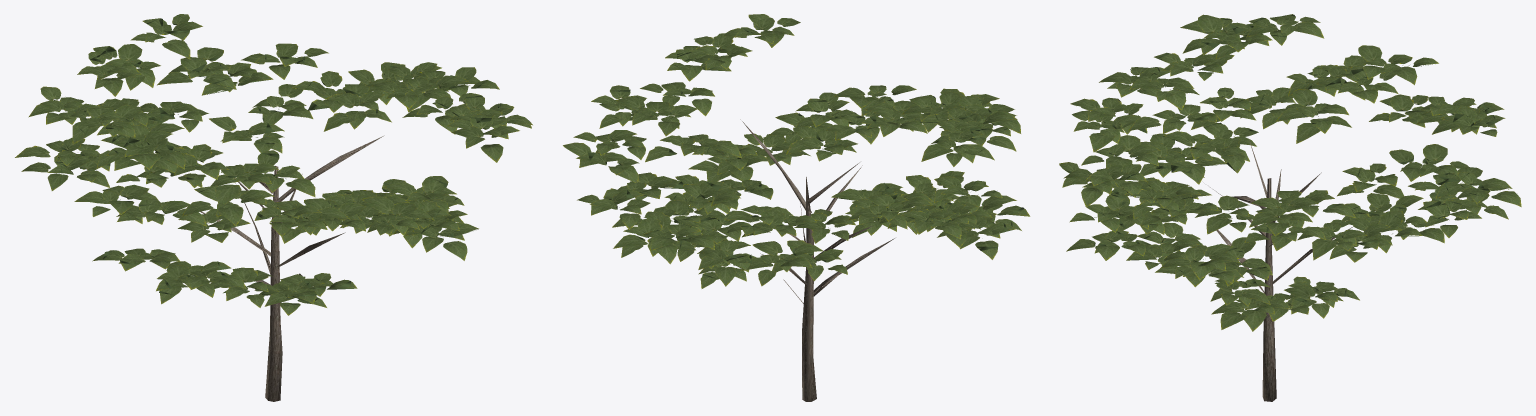
Rendered from broussonetia-3-lite.glb.
3 renders of one model, left to right at view 1: azimuth 30°, elevation 25°; view 2: azimuth 150°, elevation 25°; view 3: azimuth 270°, elevation 25°, orthographic. The views are drawn at different scales.
Parts seen in each view (by area): view 1: leaf, leaf-edge, bark; view 2: leaf, bark, leaf-edge; view 3: leaf, leaf-edge, bark.
Part boxes in pixels (x1,y1,x2,y2): leaf: (15,14,532,315); leaf-edge: (29,15,530,305); bark: (200,135,384,401); leaf: (563,14,1030,288); bark: (740,119,894,401); leaf-edge: (588,23,1028,278); leaf: (1059,14,1521,331); leaf-edge: (1065,15,1496,310); bark: (1207,140,1353,401).
Size of what is drawn, in the model's own units: 3.1 by 2.2 by 3.05.
Materials: 5 (4 with a texture image).
